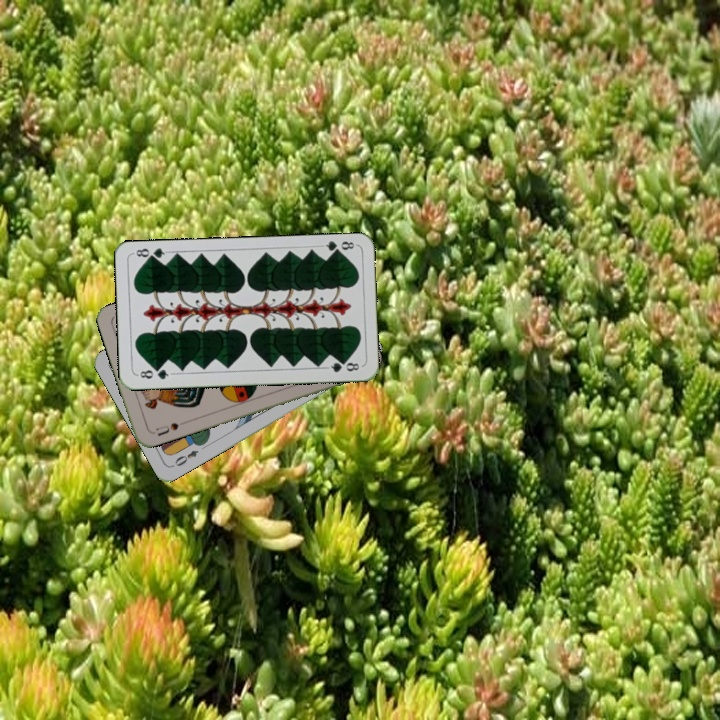EO: (170, 446, 201, 469)
G8: (318, 237, 358, 257), (134, 364, 174, 382)
SU: (148, 417, 187, 439)
